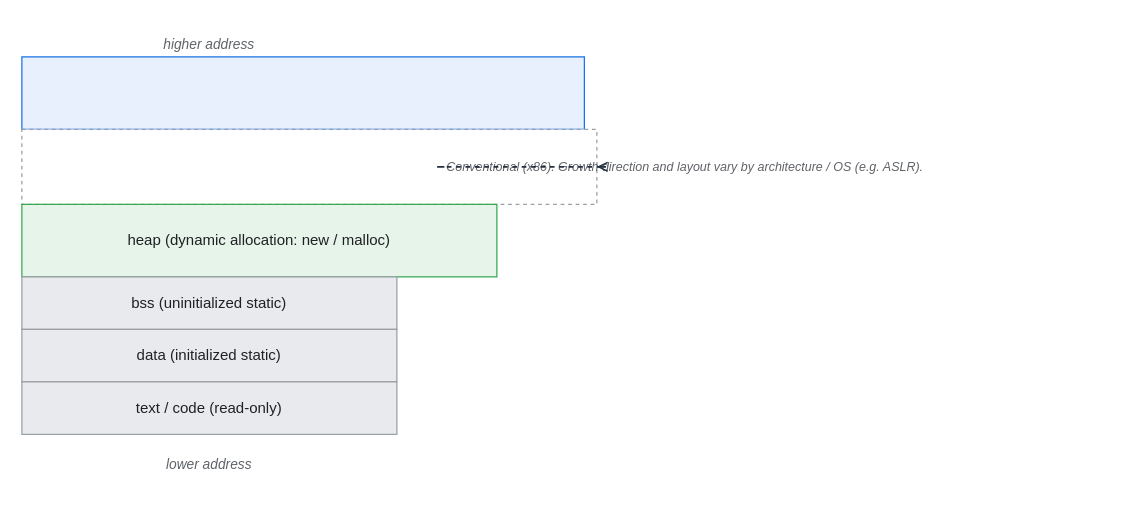
The diagram is 1136 pixels wide and 506 high, and some of its shapes have lost their labels. The box of each missing label's shape, as (x1, y1, x2, y2) in pixels:
(free space) - stack grows down, heap grows up: (21, 128, 597, 204)
stack (call stack: frames, locals, per-thread): (21, 56, 584, 129)
